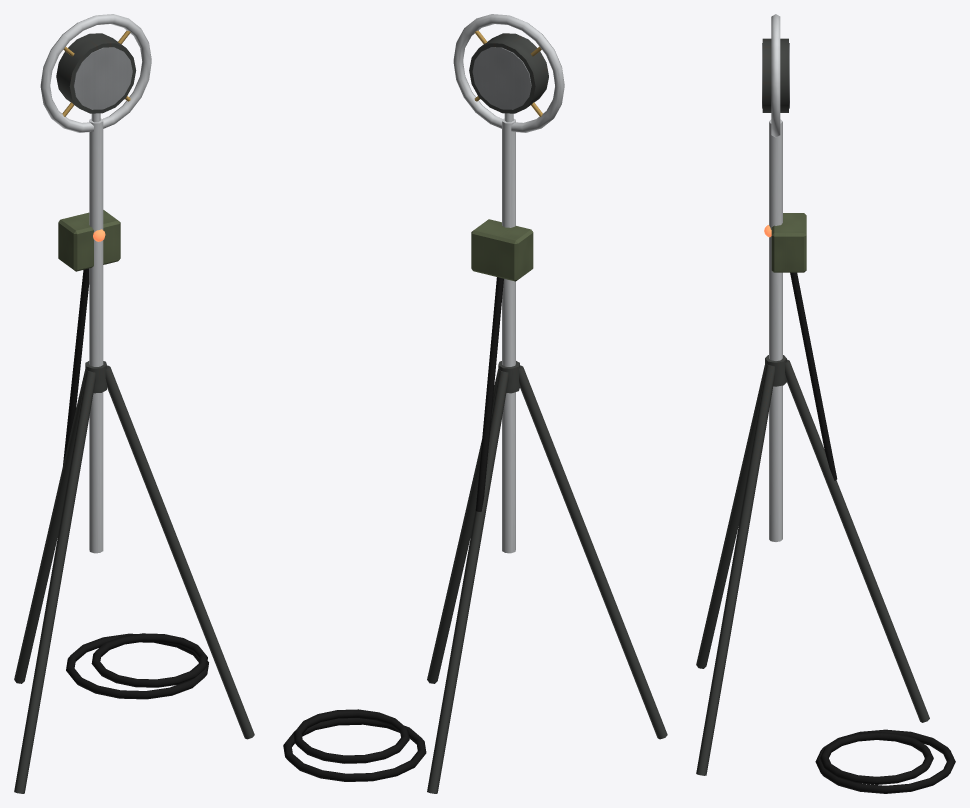
The model's file is OB_Mikrofon_Burzowy.fbx.
3 renders of one model, left to right at view 1: azimuth 30°, elevation 25°; view 2: azimuth 150°, elevation 25°; view 3: azimuth 270°, elevation 25°, orthographic. The views are drawn at different scales.
Parts seen in each view (by area): view 1: Mikrofon; view 2: Mikrofon; view 3: Mikrofon.
Boxes of the visible parts, box(x1,y1,x2,y2) form: Mikrofon: box(14, 14, 254, 793); Mikrofon: box(283, 14, 667, 793); Mikrofon: box(696, 14, 955, 793).
Bounding box in the file's own units: 0.7145 × 1.77 × 0.5918.
